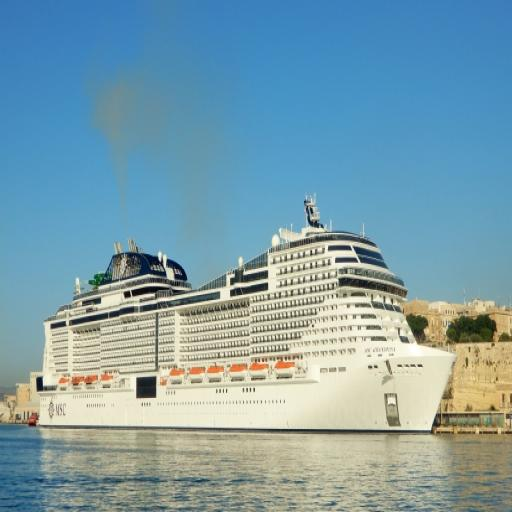cruises: (33, 192, 461, 441)
